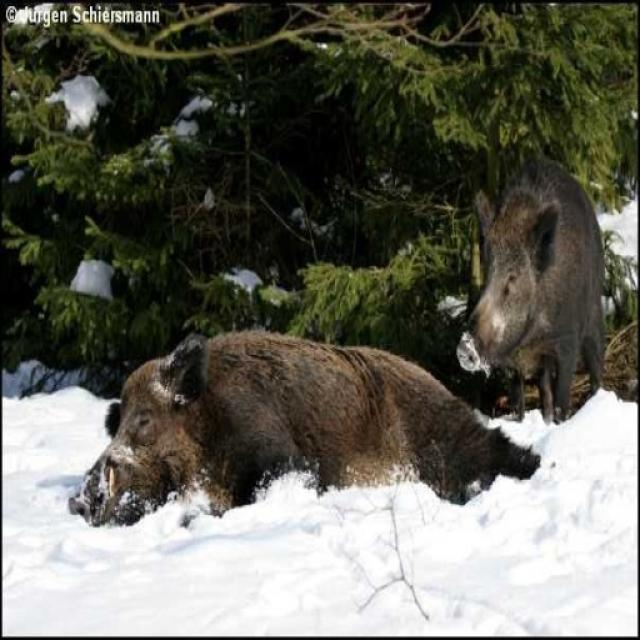pig: (79, 314, 544, 550), (450, 152, 630, 402)
